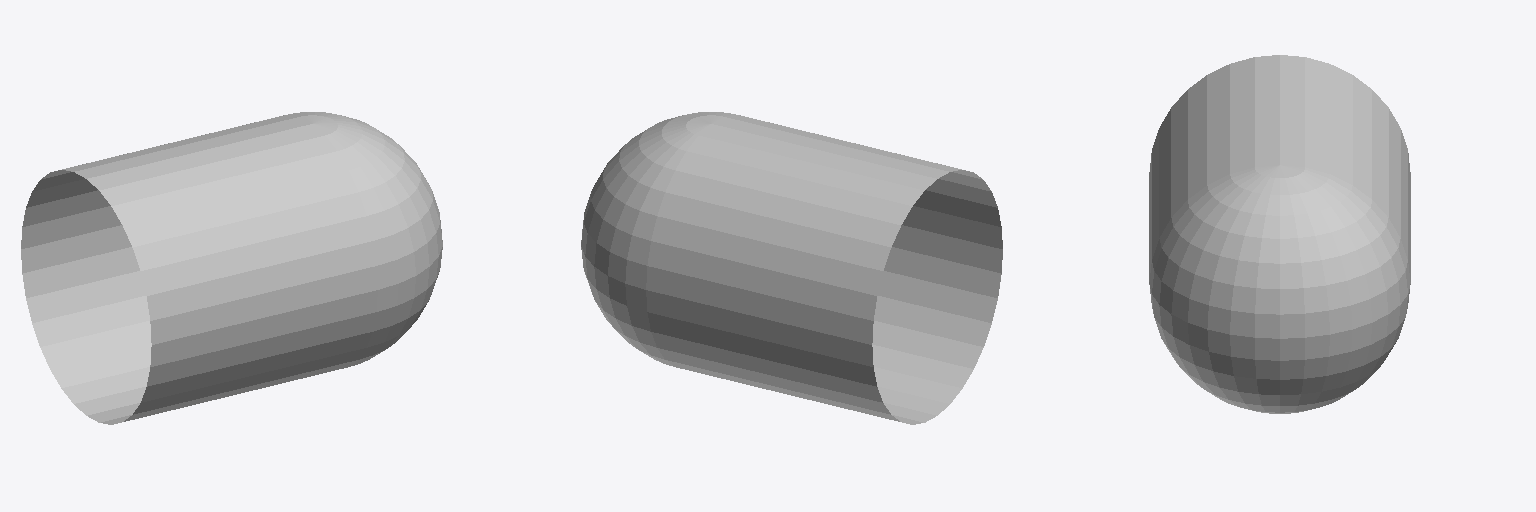
File: SkyDome.obj
3 views of the same model, side by side, from view 1: azimuth 30°, elevation 25°; view 2: azimuth 150°, elevation 25°; view 3: azimuth 270°, elevation 25° (orthographic).
Visible parts, largest first — view 1: Cylinder; view 2: Cylinder; view 3: Cylinder.
Boxes of the visible parts, box(x1,y1,x2,y2) form: Cylinder: box(21, 112, 442, 424); Cylinder: box(581, 112, 1002, 424); Cylinder: box(1149, 55, 1410, 413).
Bounding box in the file's own units: 3 × 2 × 2.